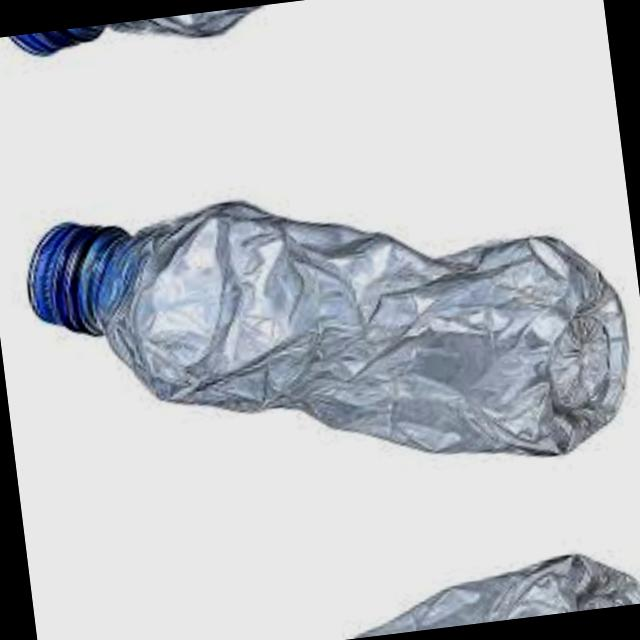Plastic: (1, 104, 640, 527), (0, 0, 606, 110), (54, 531, 640, 640)
